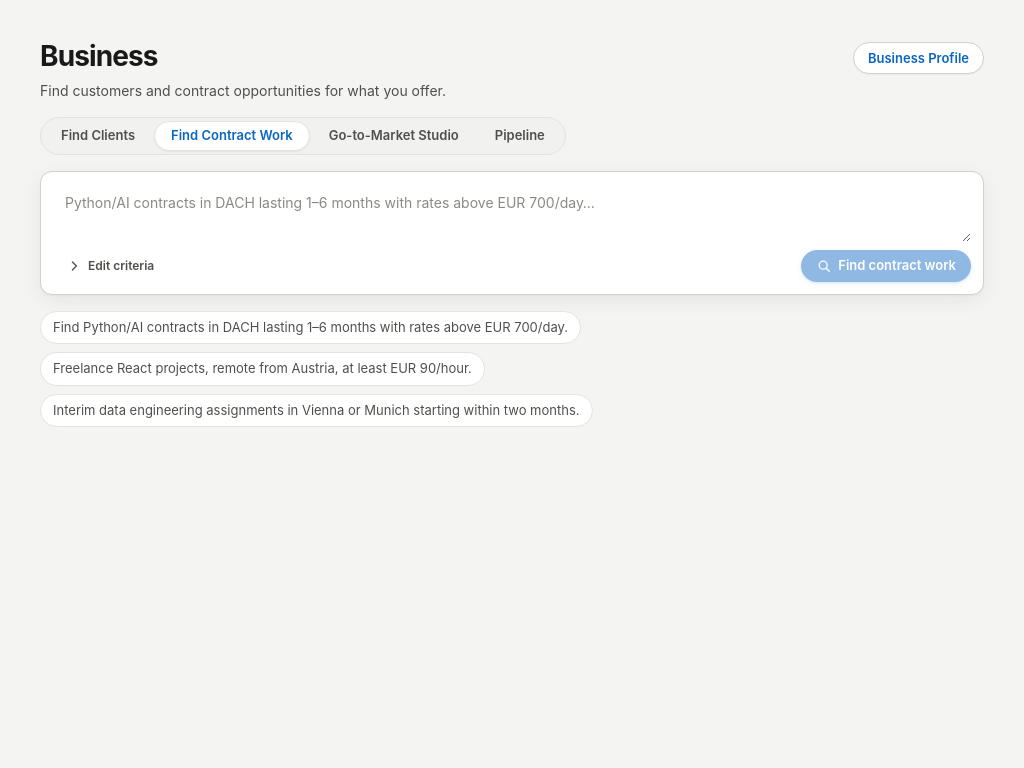
BusinessPage › shows contract terms as stated and keeps the agency apart from the client
The width and height of the screenshot is (1024, 768).
Replace the text in the text box named "Which contract work to look for" with "Python/AI contracts in DACH lasting 1–6 months above EUR 700/day" at (512, 213), box [53, 184, 971, 242]
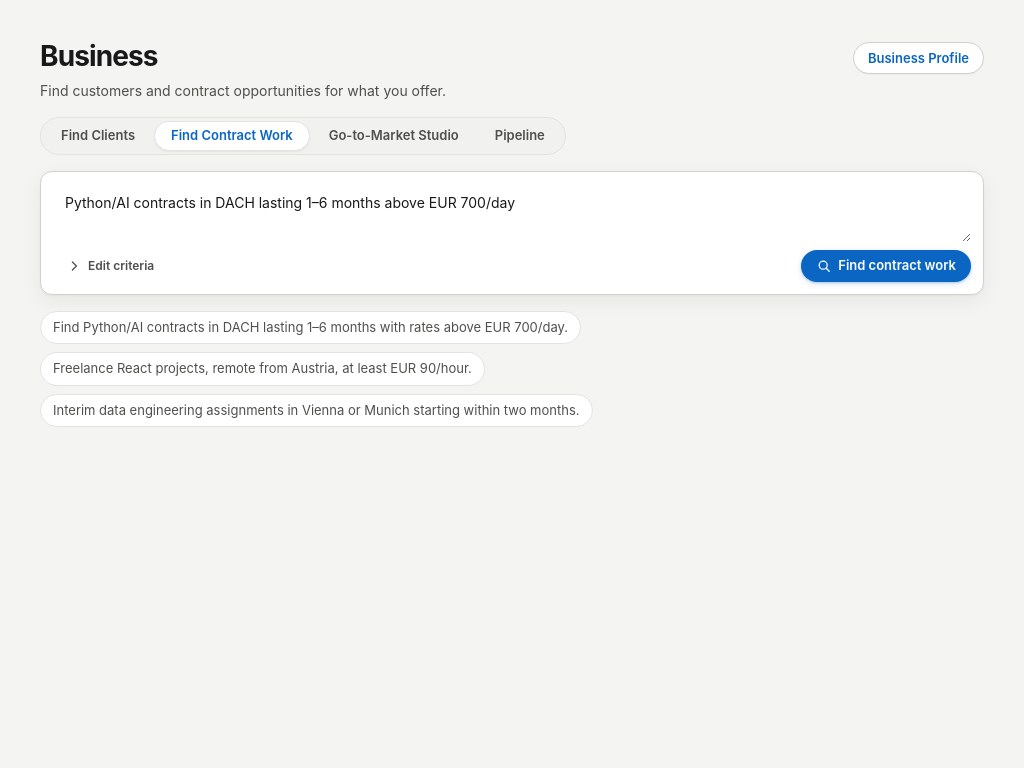
Click the button "Find contract work" at (886, 266), box [801, 250, 971, 282]
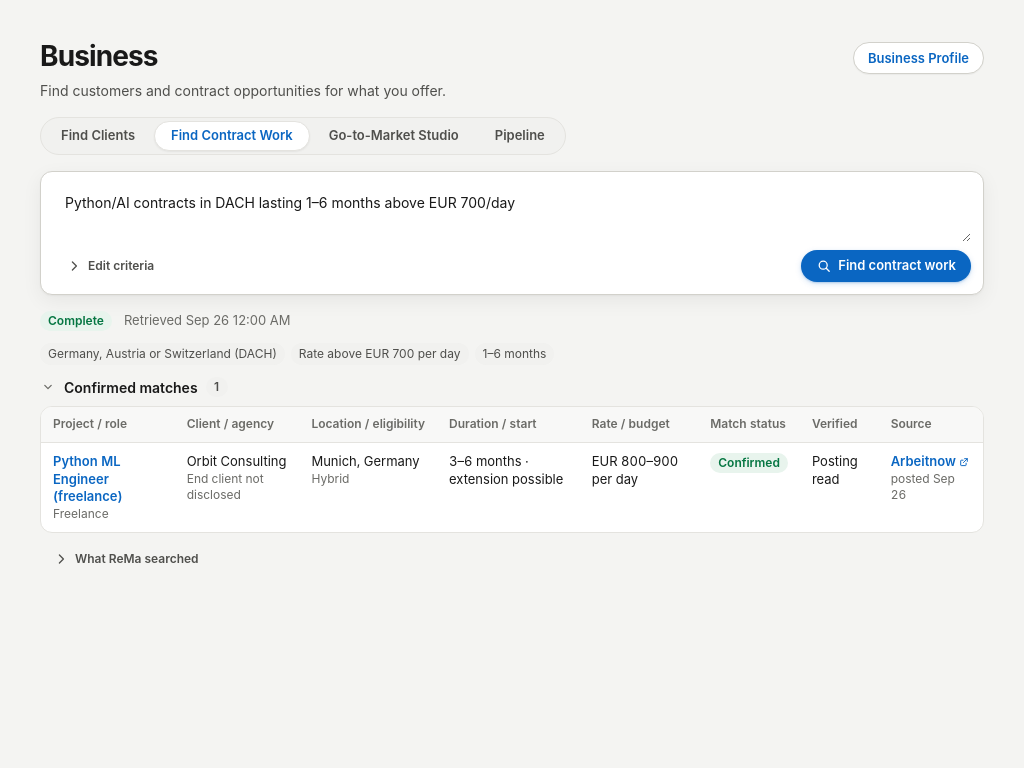
expect the button "Python ML Engineer (freelance)" is shown: met
expect the list item "Rate above EUR 700 per day" is shown: met, box [291, 343, 469, 365]
expect the text "EUR 800–900 per day" is shown: met, box [580, 443, 698, 532]
Click the button "Python ML Engineer (freelance)" at (108, 479), box [53, 453, 163, 506]
(page scrolled)
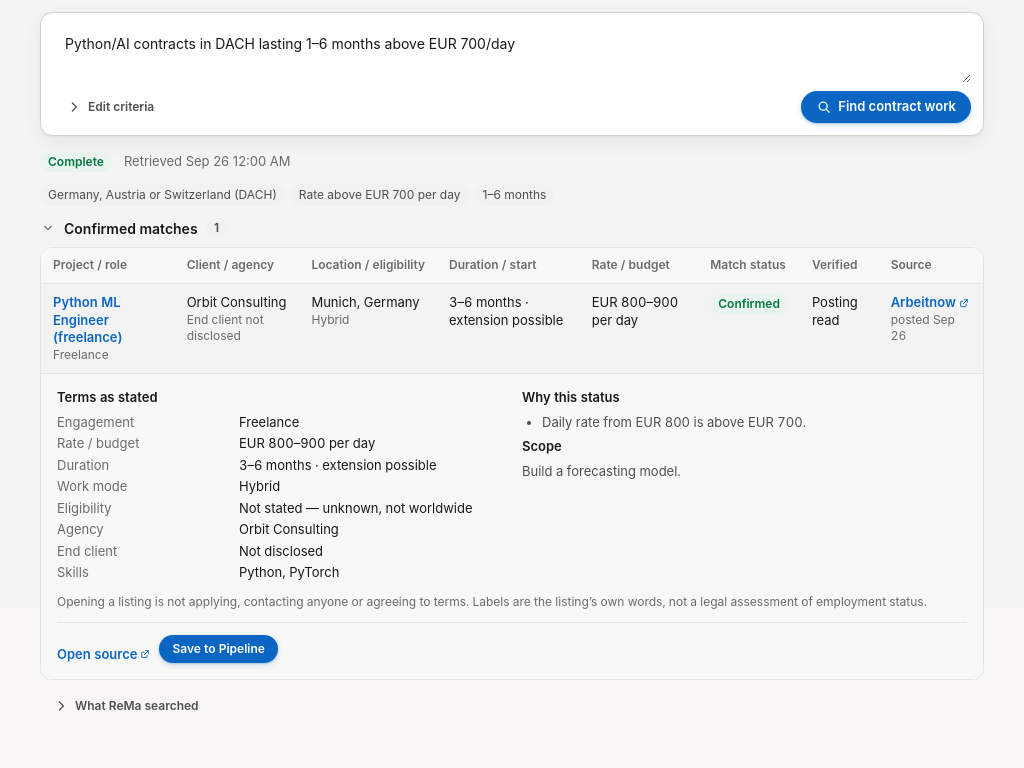
Click the button "Save to Pipeline" at (219, 649), box [159, 635, 278, 663]
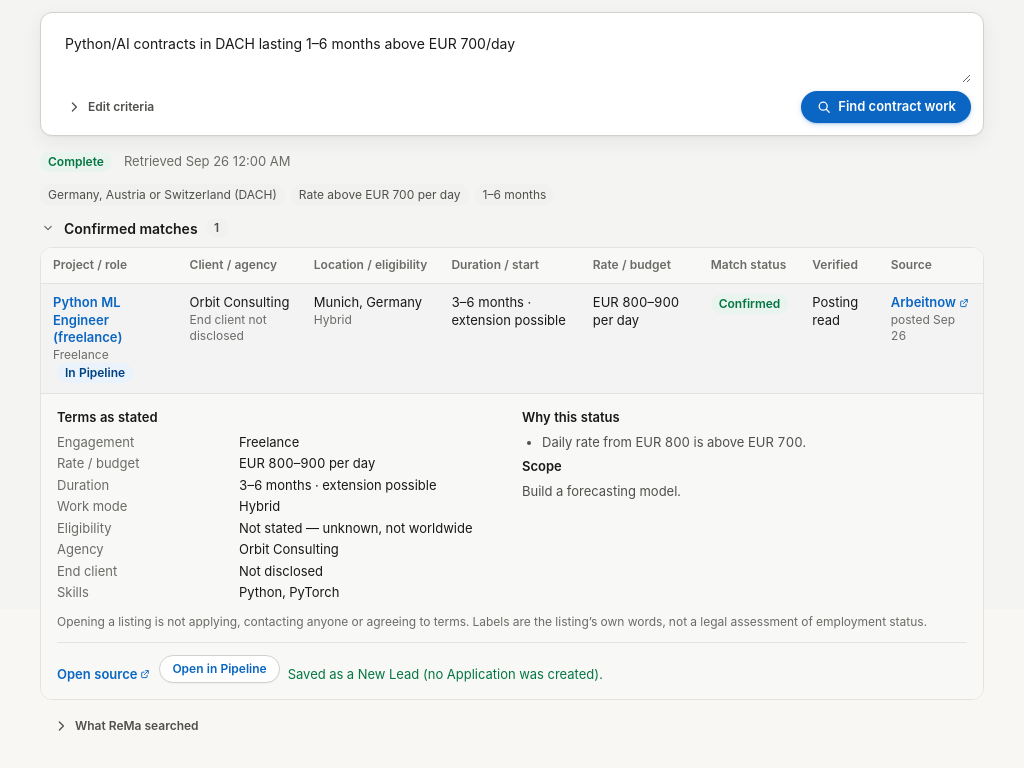
expect the text "Saved as a New Lead (no Application was created)." is shown: met, box [288, 666, 603, 683]
